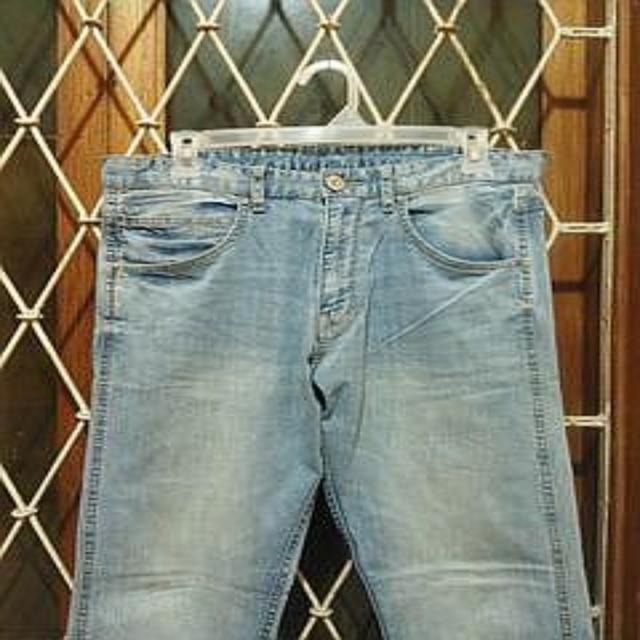TROUSER: (57, 154, 614, 638)
